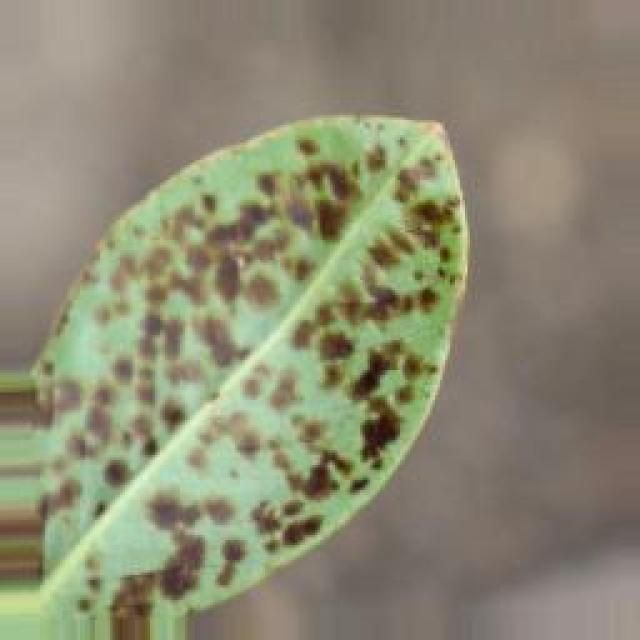Whitefly: (20, 94, 461, 623)
